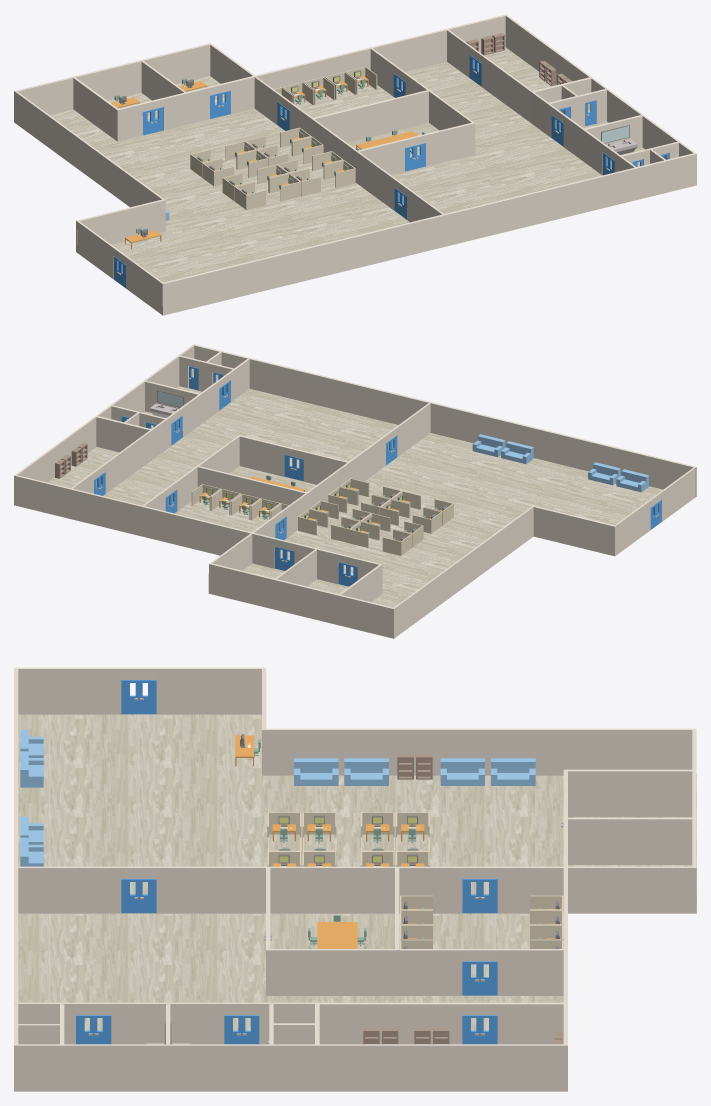
Rendered from demoOfficeScene.fbx.
3 renders of one model, top to bottom at view 1: azimuth 30°, elevation 25°; view 2: azimuth 150°, elevation 25°; view 3: azimuth 270°, elevation 25°, orthographic. The views are drawn at different scales.
Parts seen in each view (by area): view 1: officeFloorPlane, wall3, wall5, wall8, wall1, wall4, cubicle1 (×7), wall12, wall2, wall7, wall13, wall15 (+9 smaller); view 2: officeFloorPlane, wall3, wall8, wall1, wall4, wall13, wall12, cubicle1 (×6), wall5, wall2, wall11, wall15 (+11 smaller); view 3: officeFloorPlane, wall12, wall2, wall4, wall9, wall10, wall16, wall13, wall17, wall5, wall6, couch2 (×3) (+7 smaller).
Boxes of the visible parts, <box> form: officeFloorPlane: <box>50,47,644,288</box>; wall3: <box>161,153,694,315</box>; wall5: <box>72,75,255,141</box>; wall8: <box>255,15,505,88</box>; wall1: <box>16,43,211,114</box>; wall4: <box>14,90,163,207</box>; cubicle1 (×7): <box>202,136,355,209</box>; wall12: <box>504,14,696,185</box>; wall2: <box>209,43,357,182</box>; wall7: <box>313,90,429,142</box>; wall13: <box>531,77,637,175</box>; wall15: <box>356,122,474,175</box>; officeFloorPlane: <box>48,375,662,636</box>; wall3: <box>194,344,696,497</box>; wall8: <box>16,475,251,555</box>; wall1: <box>209,563,393,638</box>; wall4: <box>392,506,533,638</box>; wall13: <box>95,358,249,459</box>; wall12: <box>14,344,195,505</box>; cubicle1 (×6): <box>298,486,442,555</box>; wall5: <box>251,532,382,601</box>; wall2: <box>208,462,349,593</box>; wall11: <box>532,505,616,556</box>; wall15: <box>238,435,348,484</box>; officeFloorPlane: <box>18,714,696,1030</box>; wall12: <box>14,1044,567,1091</box>; wall2: <box>266,866,696,913</box>; wall4: <box>265,728,696,775</box>; wall9: <box>266,949,566,995</box>; wall10: <box>14,866,266,913</box>; wall16: <box>14,667,265,714</box>; wall13: <box>15,1002,319,1045</box>; wall17: <box>314,1002,567,1044</box>; wall5: <box>563,769,696,867</box>; wall6: <box>563,818,696,864</box>; couch2 (×3): <box>20,751,484,787</box>.
Size of the model in its own units: 333 by 18.76 by 254.
Materials: 16 (1 with a texture image).
